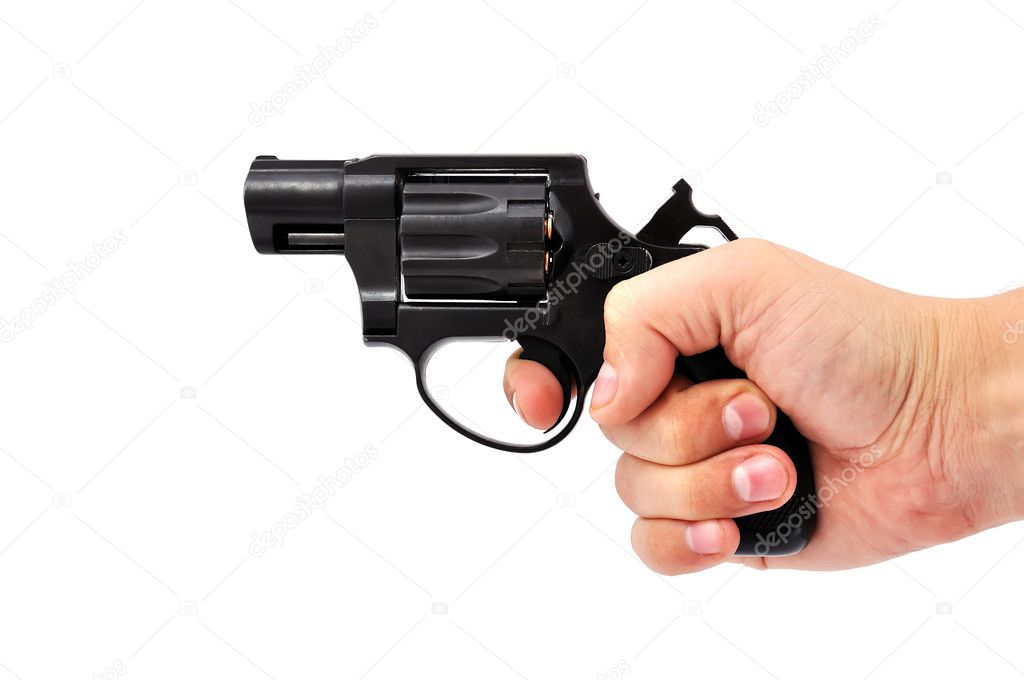Revolver: (191, 107, 833, 567)
